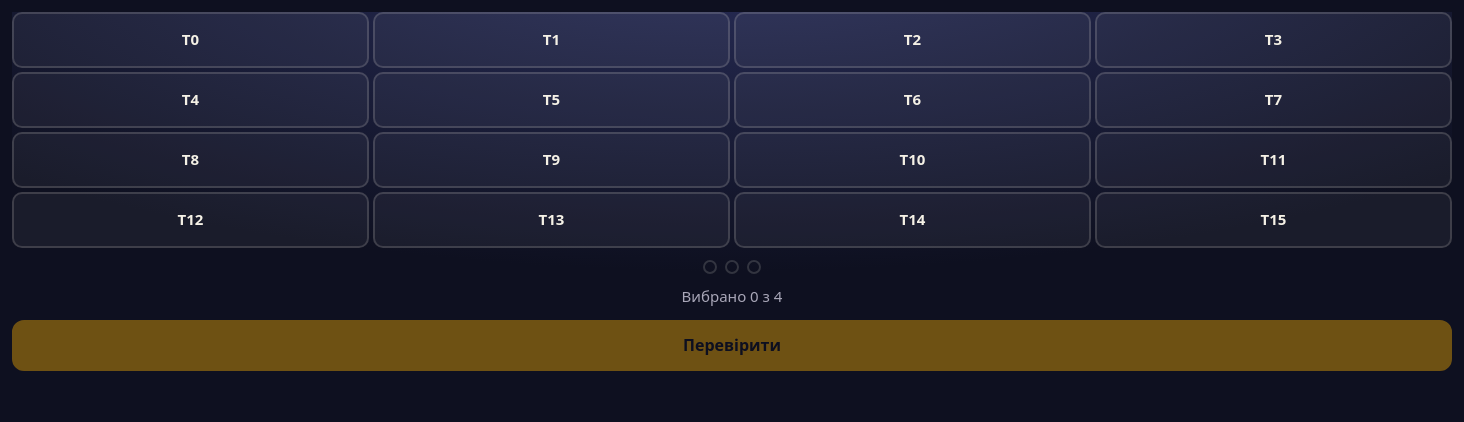
Scenario: WallInput › server error wall_pick is shown
Click the button "Т0".
click(190, 40)  # box [12, 12, 369, 68]
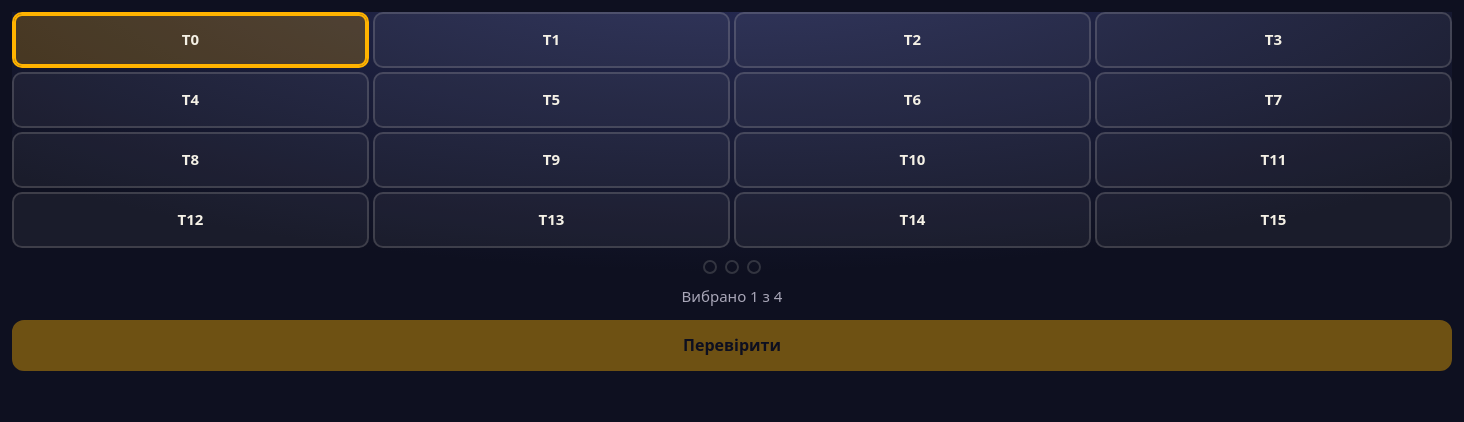
Click the button "Т1".
click(552, 40)  # box [373, 12, 730, 68]
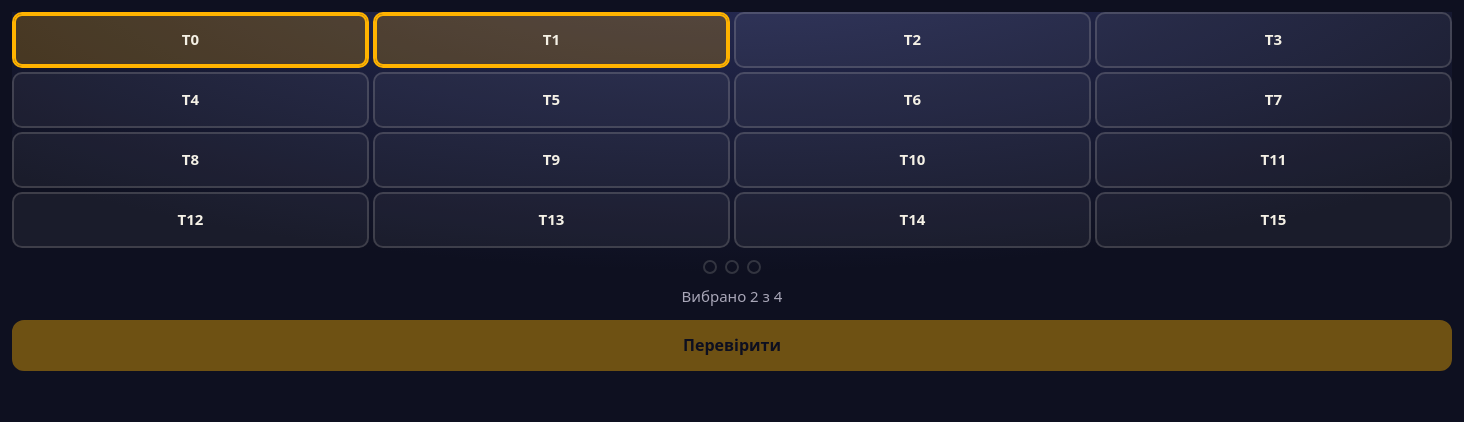
Click the button "Т2".
click(912, 40)  # box [734, 12, 1091, 68]
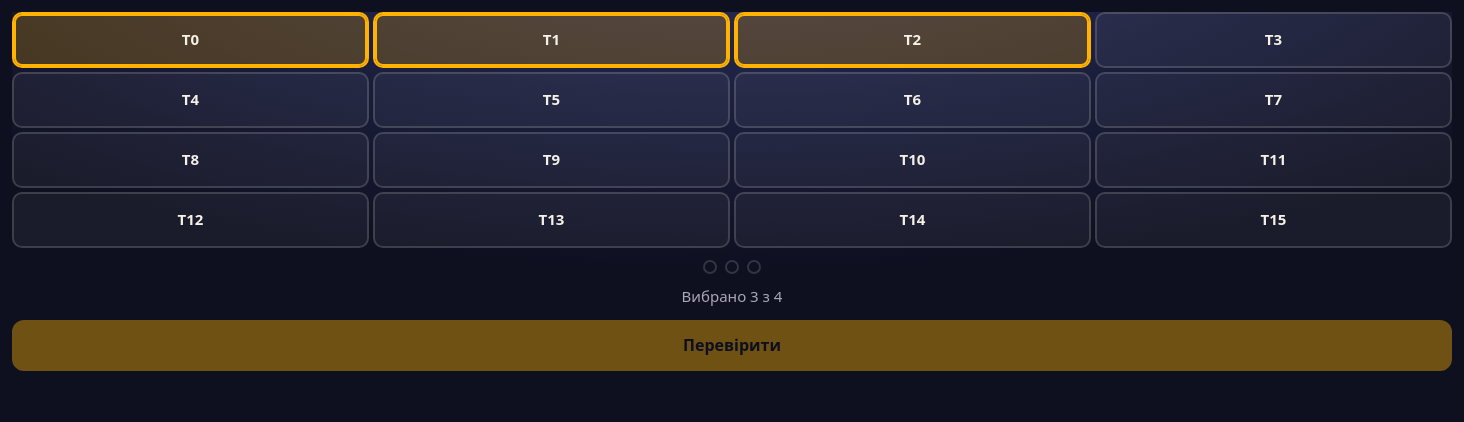
Click the button "Т3".
click(1274, 40)  # box [1095, 12, 1452, 68]
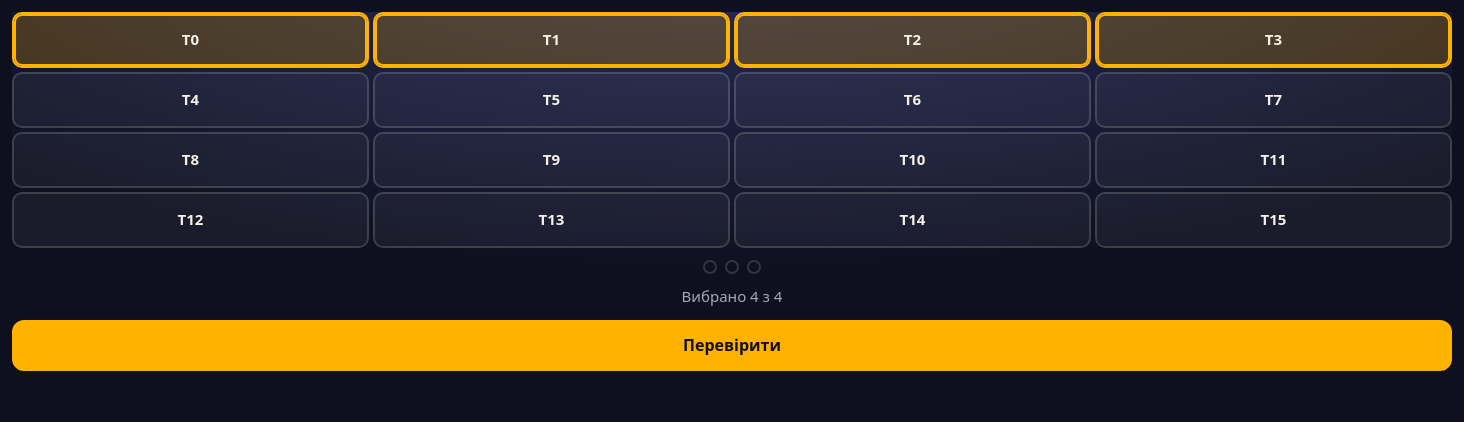
Click the button "Перевірити".
click(732, 345)  # box [12, 320, 1452, 371]
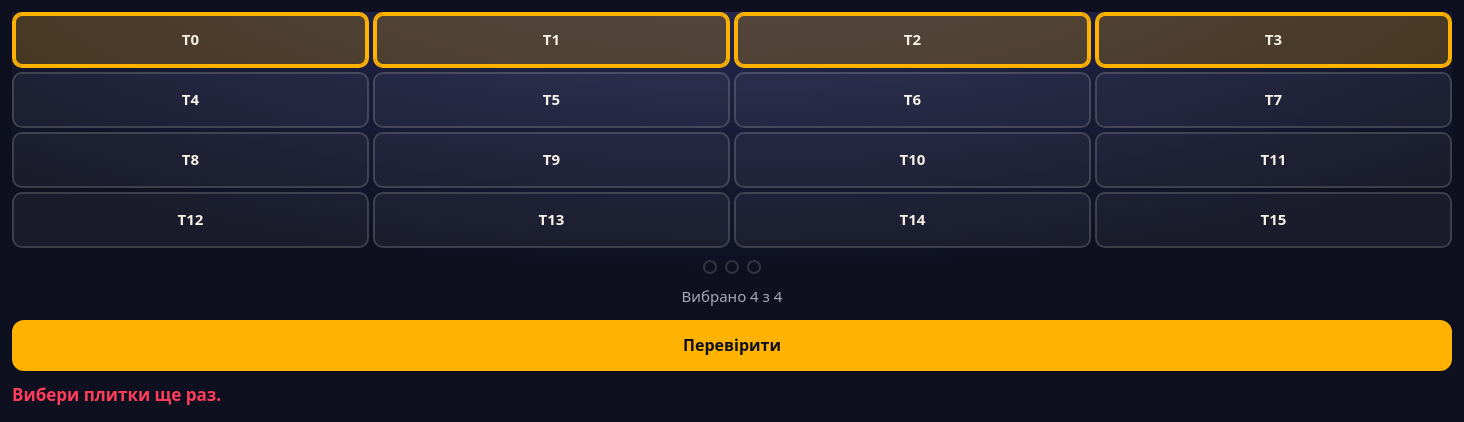
Expected: the text "Вибери плитки ще раз." is shown, [12, 383, 221, 406]
